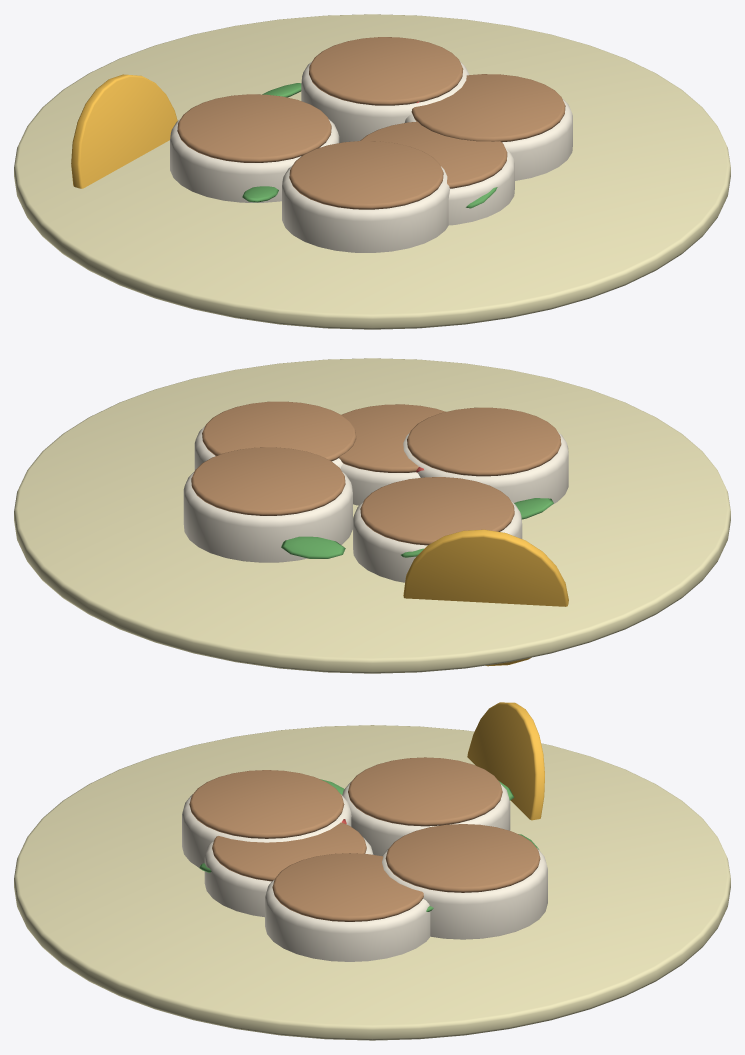
File: SearedScallopCeviche.gltf
3 views of the same model, one above another, from view 1: azimuth 30°, elevation 25°; view 2: azimuth 150°, elevation 25°; view 3: azimuth 270°, elevation 25° (orthographic).
Parts seen in each view (by area): view 1: Marinade, Sear_3, Sear_1, Sear_0, CitrusWheel, Scallop_3, Sear_4, Scallop_0, Sear_2, Scallop_1, Scallop_4, Scallop_2; view 2: Marinade, CitrusWheel, Sear_3, Sear_1, Sear_0, Scallop_1, Sear_4, Sear_2, Scallop_3, Scallop_0, Scallop_2, Herb_2 (+1 smaller); view 3: Marinade, Sear_3, Sear_1, Sear_0, Sear_4, Scallop_4, Scallop_1, CitrusWheel, Sear_2, Scallop_2, Scallop_0, Scallop_3.
Part boxes in pixels (left/top/right/bottom): Marinade: left=14, top=14, right=730, bottom=329; Sear_3: left=289, top=141, right=443, bottom=209; Sear_1: left=309, top=37, right=463, bottom=105; Sear_0: left=177, top=94, right=331, bottom=162; CitrusWheel: left=71, top=74, right=177, bottom=188; Scallop_3: left=282, top=165, right=449, bottom=252; Sear_4: left=411, top=74, right=565, bottom=142; Scallop_0: left=170, top=119, right=339, bottom=202; Sear_2: left=360, top=121, right=507, bottom=188; Scallop_1: left=301, top=61, right=469, bottom=142; Scallop_4: left=404, top=99, right=572, bottom=180; Scallop_2: left=448, top=149, right=514, bottom=225; Marinade: left=14, top=358, right=730, bottom=673; CitrusWheel: left=403, top=529, right=568, bottom=666; Sear_3: left=407, top=407, right=561, bottom=476; Sear_1: left=191, top=447, right=345, bottom=515; Sear_0: left=360, top=477, right=514, bottom=545; Scallop_1: left=183, top=472, right=352, bottom=562; Sear_4: left=202, top=401, right=356, bottom=461; Sear_2: left=339, top=404, right=445, bottom=472; Scallop_3: left=403, top=432, right=568, bottom=504; Scallop_0: left=353, top=501, right=522, bottom=582; Scallop_2: left=340, top=463, right=420, bottom=505; Herb_2: left=281, top=536, right=345, bottom=558; Marinade: left=14, top=725, right=730, bottom=1040; Sear_3: left=189, top=770, right=344, bottom=838; Sear_1: left=385, top=824, right=540, bottom=892; Sear_0: left=348, top=757, right=502, bottom=826; Sear_4: left=272, top=853, right=423, bottom=921; Scallop_4: left=265, top=880, right=430, bottom=961; Scallop_1: left=382, top=848, right=547, bottom=939; CitrusWheel: left=467, top=702, right=544, bottom=820; Sear_2: left=212, top=822, right=366, bottom=881; Scallop_2: left=204, top=837, right=373, bottom=917; Scallop_0: left=342, top=781, right=510, bottom=855; Scallop_3: left=182, top=794, right=351, bottom=867.
Size of the model in its own units: 1.9 by 0.4333 by 1.9.
